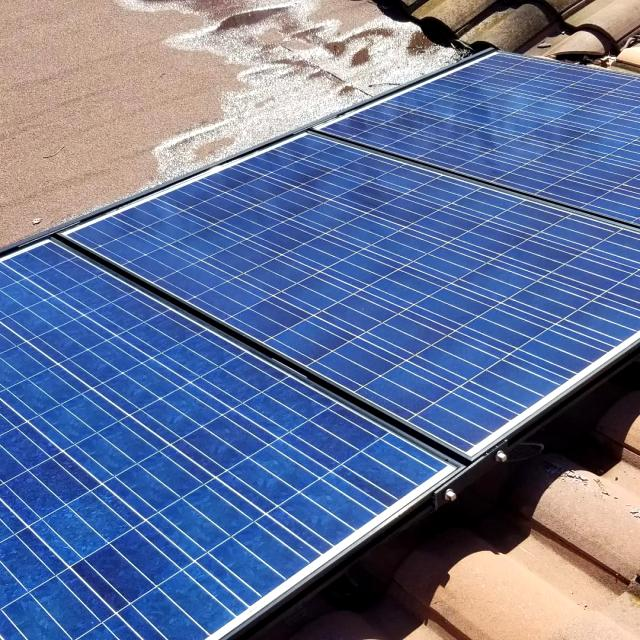crack: (296, 147, 532, 364), (68, 448, 222, 546), (163, 424, 295, 526), (231, 449, 379, 518), (471, 70, 564, 164), (10, 432, 114, 502)
